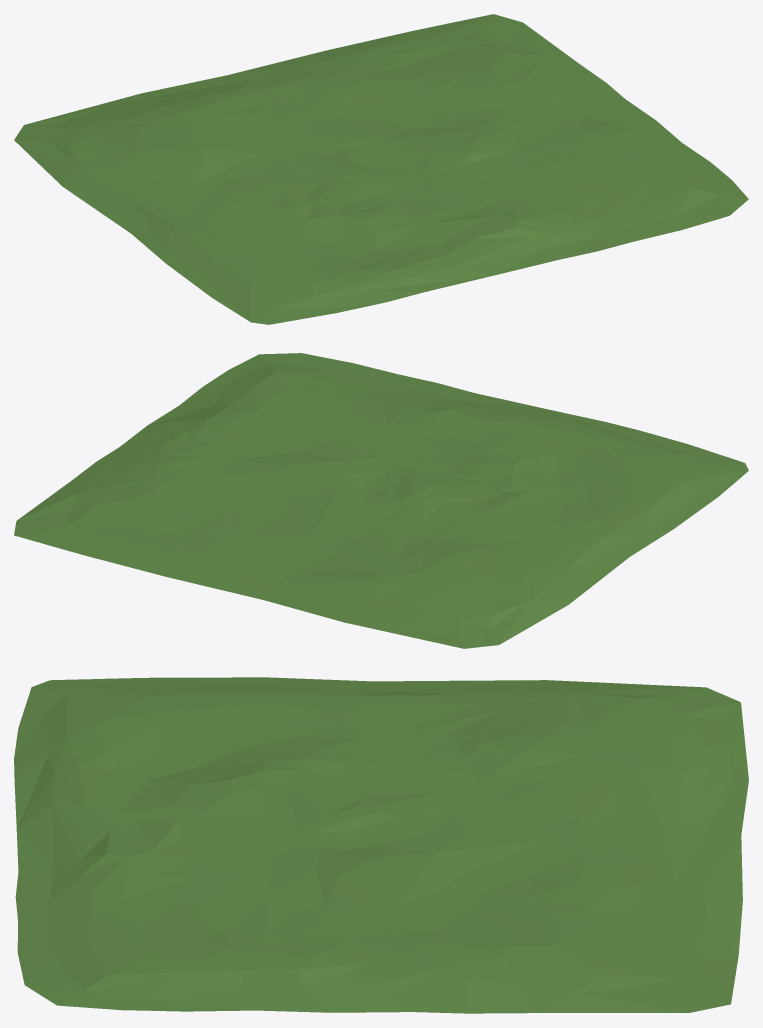
File: SM_Generic_Ground_Flat_01.glb
3 views of the same model, one above another, from view 1: azimuth 30°, elevation 25°; view 2: azimuth 150°, elevation 25°; view 3: azimuth 270°, elevation 25° (orthographic). The views are drawn at different scales.
Parts seen in each view (by area): view 1: SM_Generic_Ground_Flat_01; view 2: SM_Generic_Ground_Flat_01; view 3: SM_Generic_Ground_Flat_01.
Part boxes in pixels (left/top/right/bottom): SM_Generic_Ground_Flat_01: left=14, top=14, right=748, bottom=324; SM_Generic_Ground_Flat_01: left=14, top=353, right=748, bottom=648; SM_Generic_Ground_Flat_01: left=14, top=677, right=748, bottom=1013.
Bounding box in the file's own units: 20.74 × 0.4643 × 19.23.
1 material, 1 textured.
